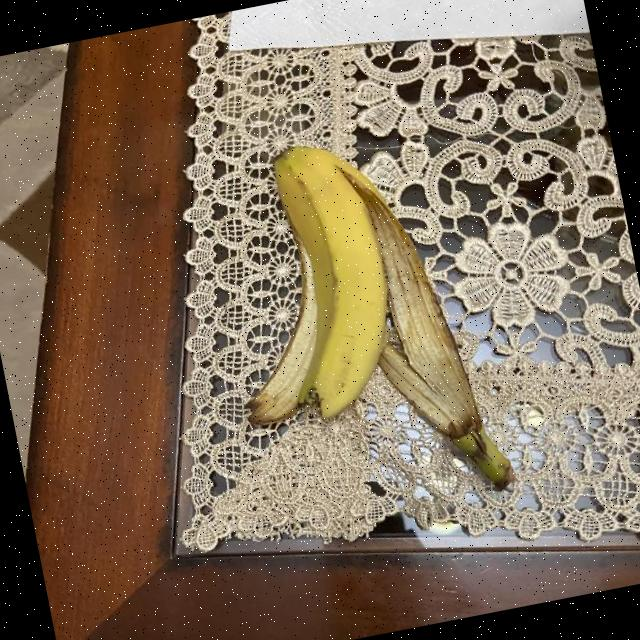banana-peel: (196, 114, 516, 536)
